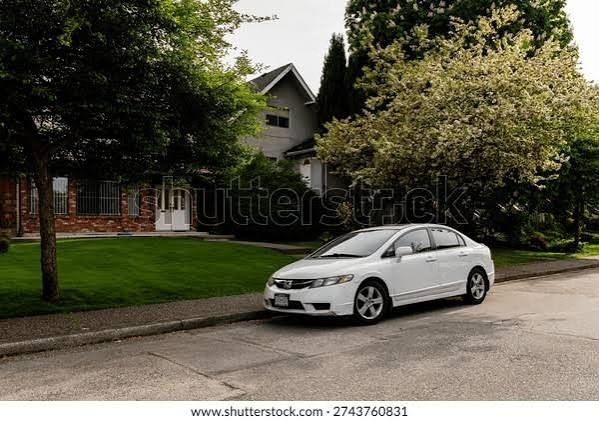car: (257, 220, 504, 323)
